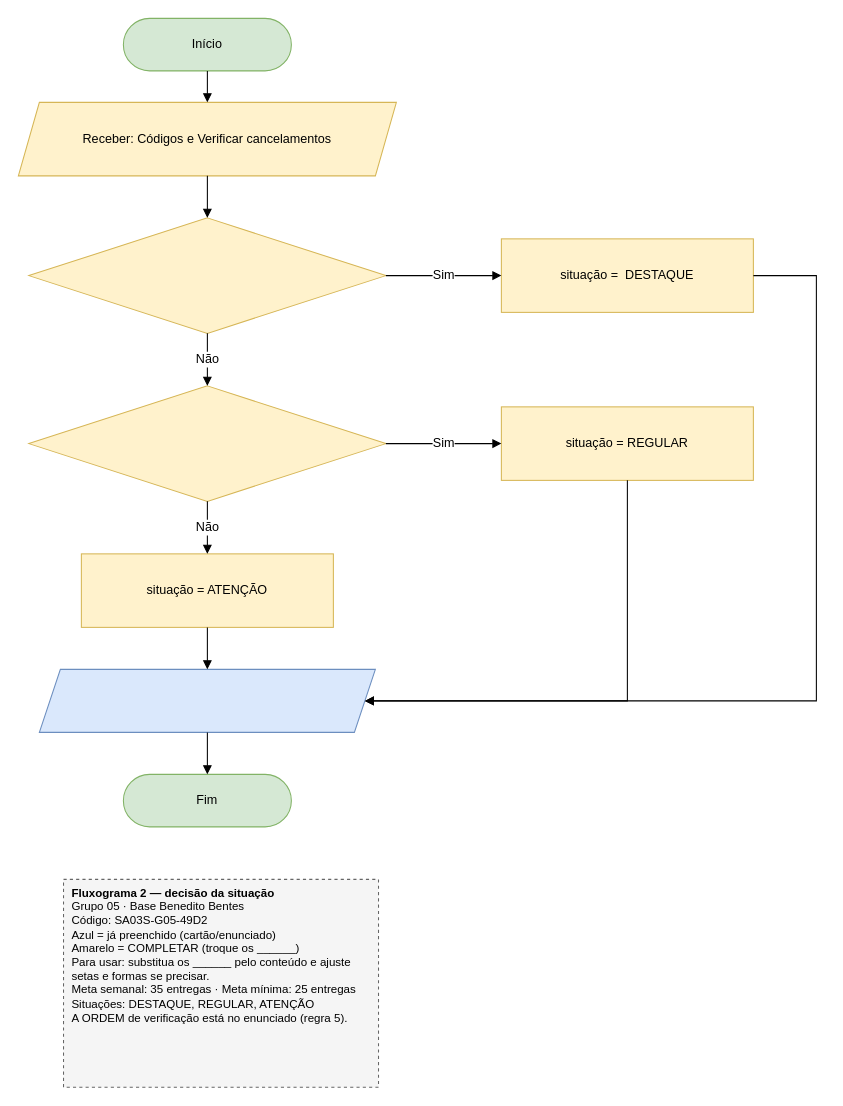
This 843x1106 diagram has some shape labels left out. Each missing label, with the centre of its shape:
"Devolver a situação do entregador" goes at [206,700].
"Entregas >= 25" goes at [207,443].
"Entregas >= 35 e Cancelamentos = 0" goes at [207,275].
